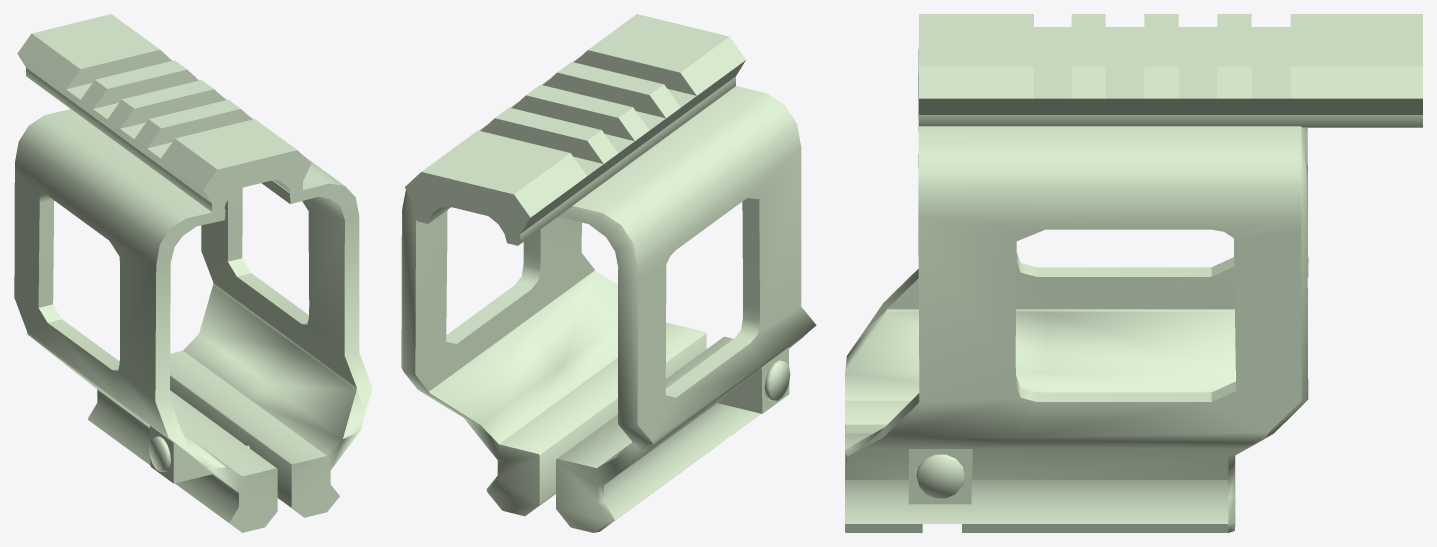
The model's file is pistol_rail.fbx.
3 views of the same model, side by side, from view 1: azimuth 30°, elevation 25°; view 2: azimuth 150°, elevation 25°; view 3: azimuth 270°, elevation 25° (orthographic). The views are drawn at different scales.
Visible parts, largest first — view 1: mount; view 2: mount; view 3: mount.
Part boxes in pixels (x1,y1,x2,y2): mount: [14, 14, 372, 532]; mount: [401, 14, 816, 532]; mount: [845, 14, 1422, 532].
Size of the model in its own units: 2.18 by 3.5 by 3.94.
